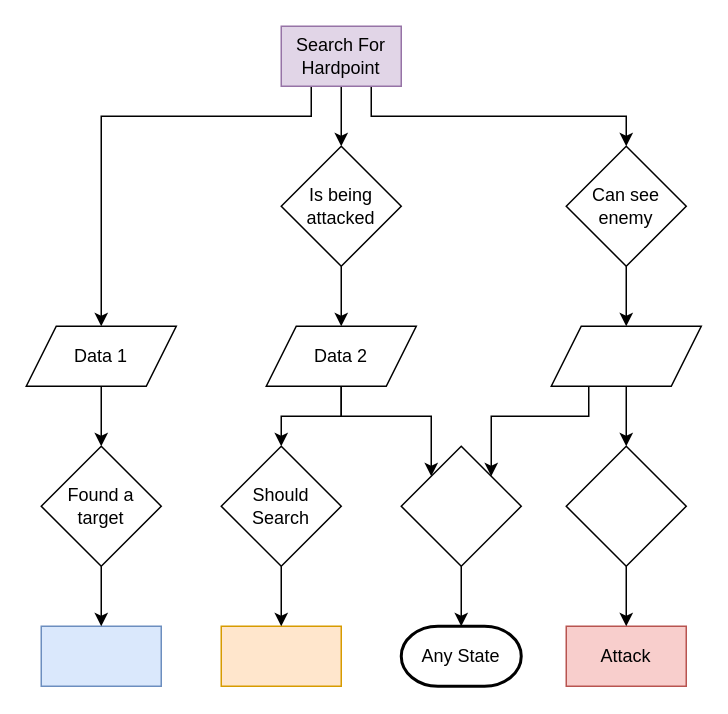
The diagram is 728 pixels wide and 714 high, and some of its shapes have lost their labels. Here are the shapes that lost their labels. From the top down, the centre of each, then its label:
At (x=625, y=355): "Data 3".
At (x=460, y=505): "Should Flee".
At (x=625, y=505): "Should Attack".
At (x=100, y=655): "Move".
At (x=280, y=655): "Search For Enemy".
